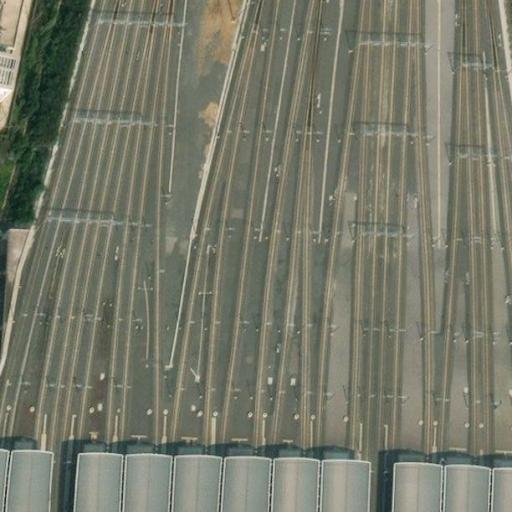building: (75, 460, 367, 511), (393, 460, 511, 512), (0, 446, 52, 512)
